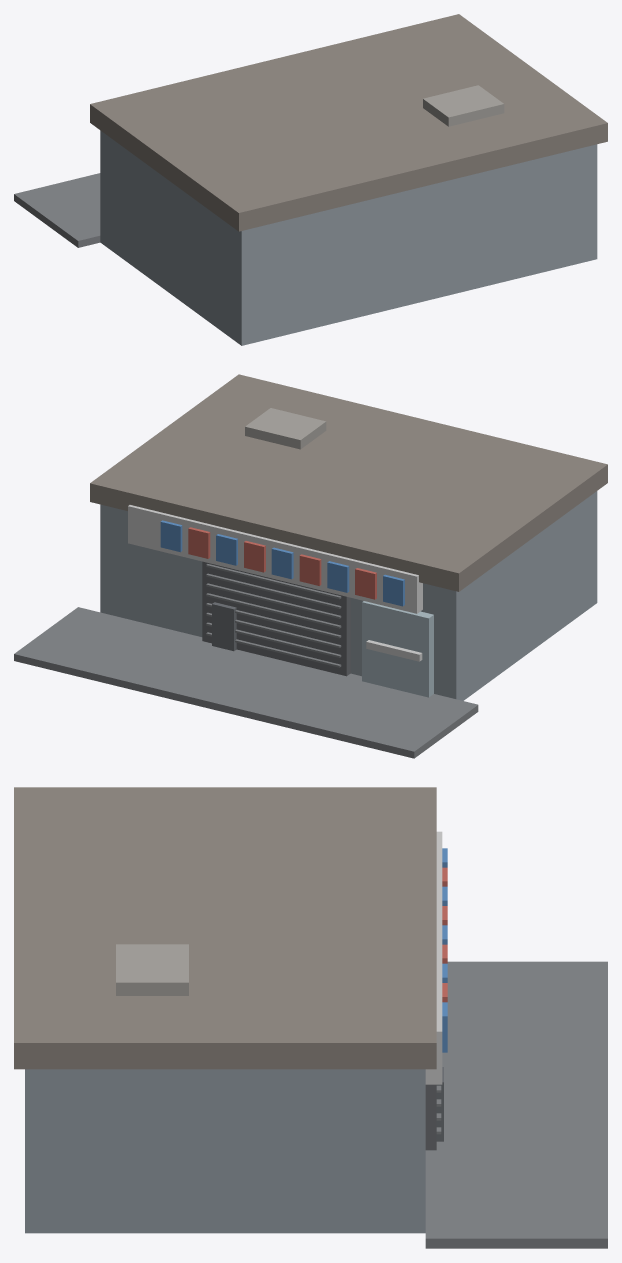
File: spray.glb
3 renders of one model, top to bottom at view 1: azimuth 30°, elevation 25°; view 2: azimuth 150°, elevation 25°; view 3: azimuth 270°, elevation 25°, orthographic. The views are drawn at different scales.
Parts seen in each view (by area): view 1: Mesh; view 2: Mesh; view 3: Mesh.
Part boxes in pixels (<box>): Mesh: <box>14,14,607,345</box>; Mesh: <box>14,374,607,758</box>; Mesh: <box>14,787,607,1248</box>.
Bounding box in the file's own units: 18 × 6.3 × 16.3.
